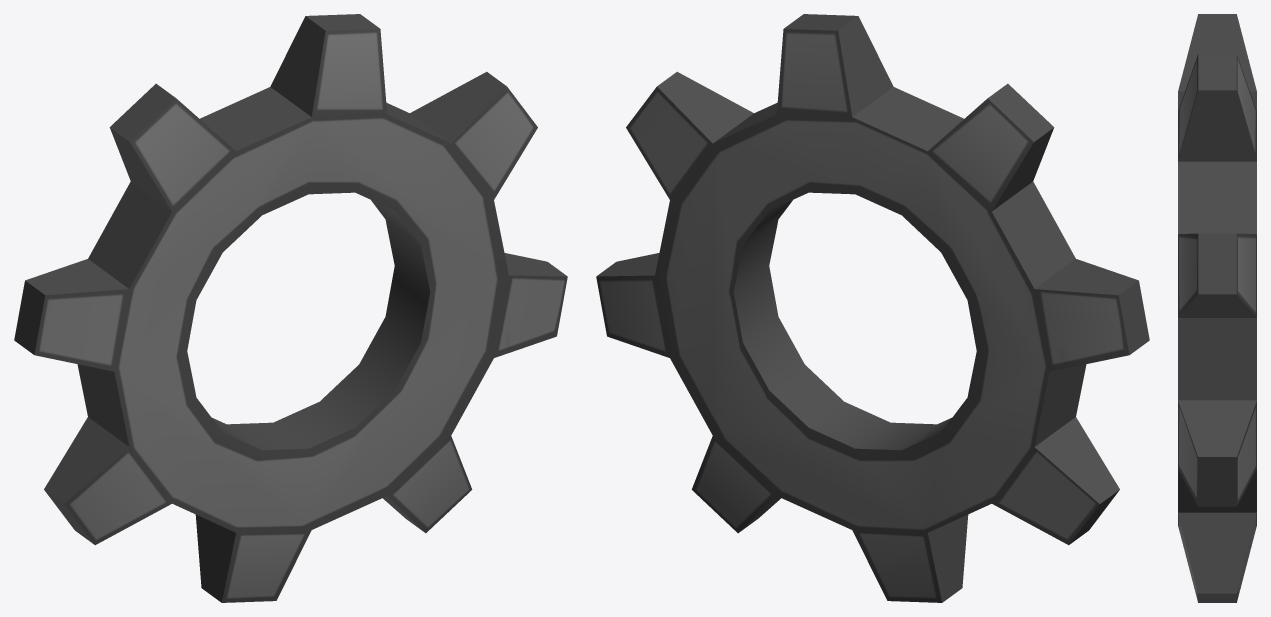
File: Gear.fbx
The picture shows the model from 3 angles, left to right: view 1: azimuth 30°, elevation 25°; view 2: azimuth 150°, elevation 25°; view 3: azimuth 270°, elevation 25°; orthographic projection. The views are drawn at different scales.
Parts seen in each view (by area): view 1: Gear; view 2: Gear; view 3: Gear.
Part boxes in pixels (<box>): Gear: <box>14,14,567,602</box>; Gear: <box>596,14,1149,602</box>; Gear: <box>1178,14,1256,602</box>.
Size of the model in its own units: 23.1 by 172 by 172.
